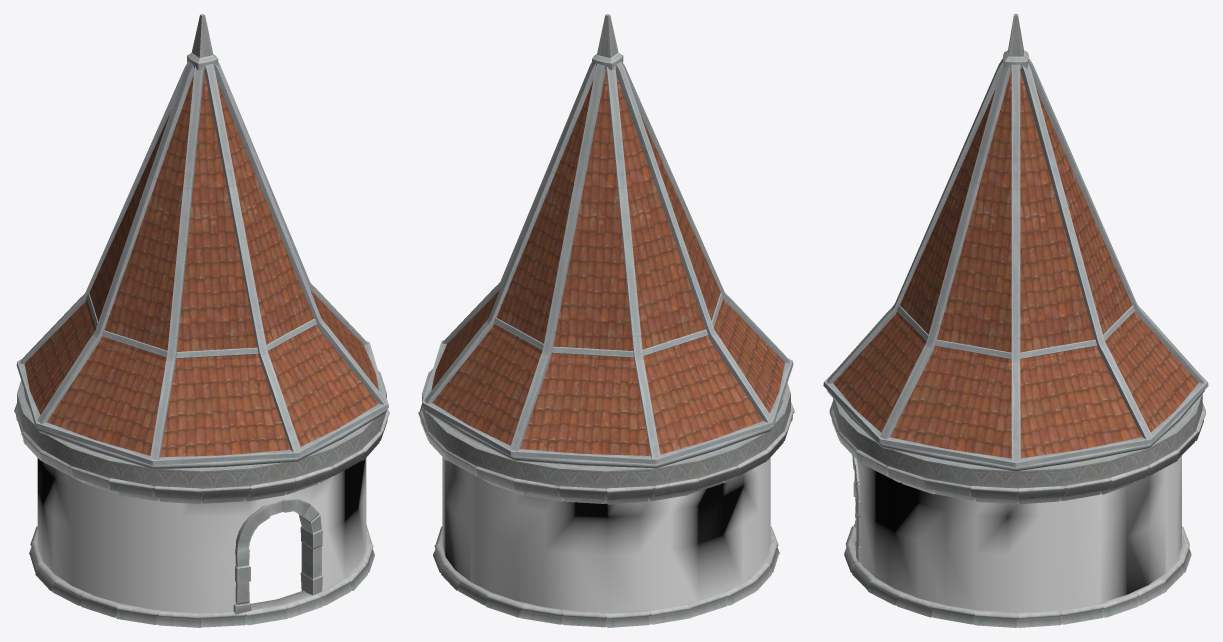
File: SM_TowerA_Top_Cover_01.fbx
The picture shows the model from 3 angles, left to right: view 1: azimuth 30°, elevation 25°; view 2: azimuth 150°, elevation 25°; view 3: azimuth 270°, elevation 25°; orthographic projection.
Visible parts, largest first — view 1: SM_TowerA_Top_Cover_01_LOD0; view 2: SM_TowerA_Top_Cover_01_LOD0; view 3: SM_TowerA_Top_Cover_01_LOD0.
Boxes of the visible parts, bbox=[...] form: SM_TowerA_Top_Cover_01_LOD0: bbox=[14, 14, 389, 627]; SM_TowerA_Top_Cover_01_LOD0: bbox=[418, 14, 794, 627]; SM_TowerA_Top_Cover_01_LOD0: bbox=[823, 14, 1208, 627].
Size of what is drawn, in the model's own units: 7.55 by 11.68 by 7.55.
